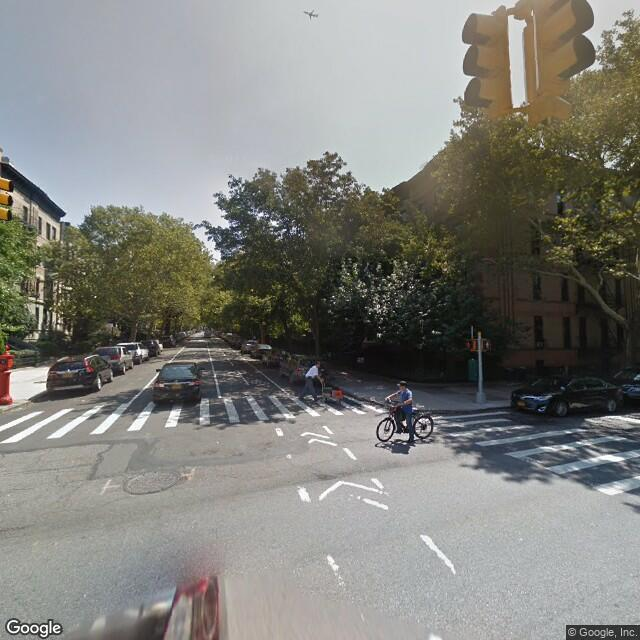litter: (353, 376, 361, 381)
